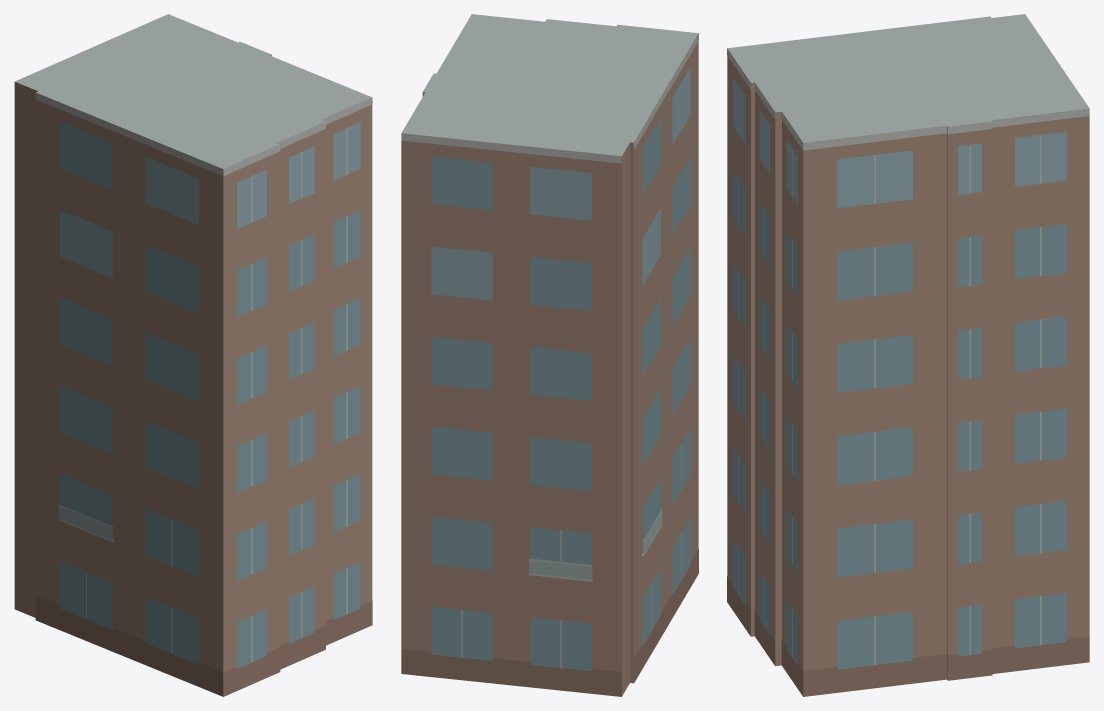
Rendered from survey-upis-32615003.glb.
The picture shows the model from 3 angles, left to right: view 1: azimuth 30°, elevation 25°; view 2: azimuth 150°, elevation 25°; view 3: azimuth 270°, elevation 25°; orthographic projection. The views are drawn at different scales.
Visible parts, largest first — view 1: survey-upis-32615003.tmp; view 2: survey-upis-32615003.tmp; view 3: survey-upis-32615003.tmp.
Part boxes in pixels (bbox=[...]): survey-upis-32615003.tmp: bbox=[14, 14, 372, 696]; survey-upis-32615003.tmp: bbox=[401, 14, 698, 696]; survey-upis-32615003.tmp: bbox=[727, 14, 1089, 696].
Size of the model in its own units: 9.06 by 18.1 by 10.75.
